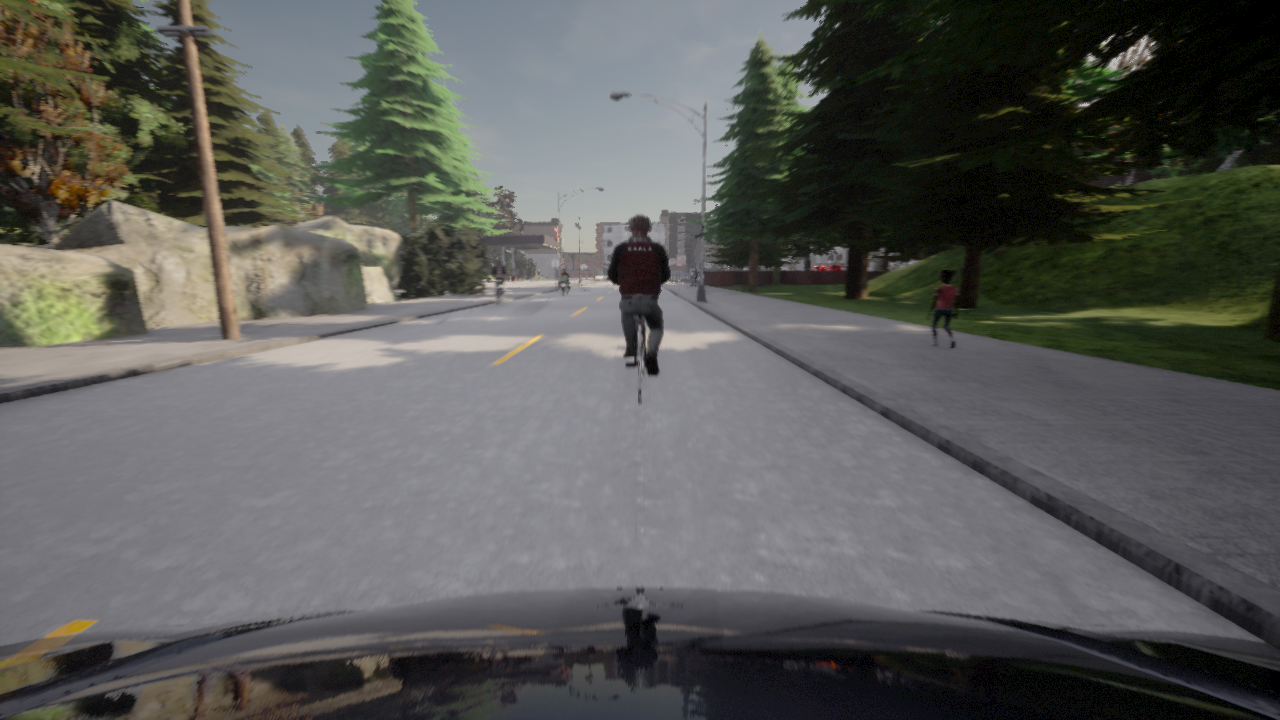cyclist: (0, 588, 1279, 719), (626, 316, 646, 403), (556, 274, 569, 296), (497, 276, 504, 304), (671, 272, 685, 275), (484, 273, 489, 280), (684, 273, 689, 275)
pedestrian: (927, 271, 958, 348), (689, 266, 694, 285), (694, 266, 698, 285)
